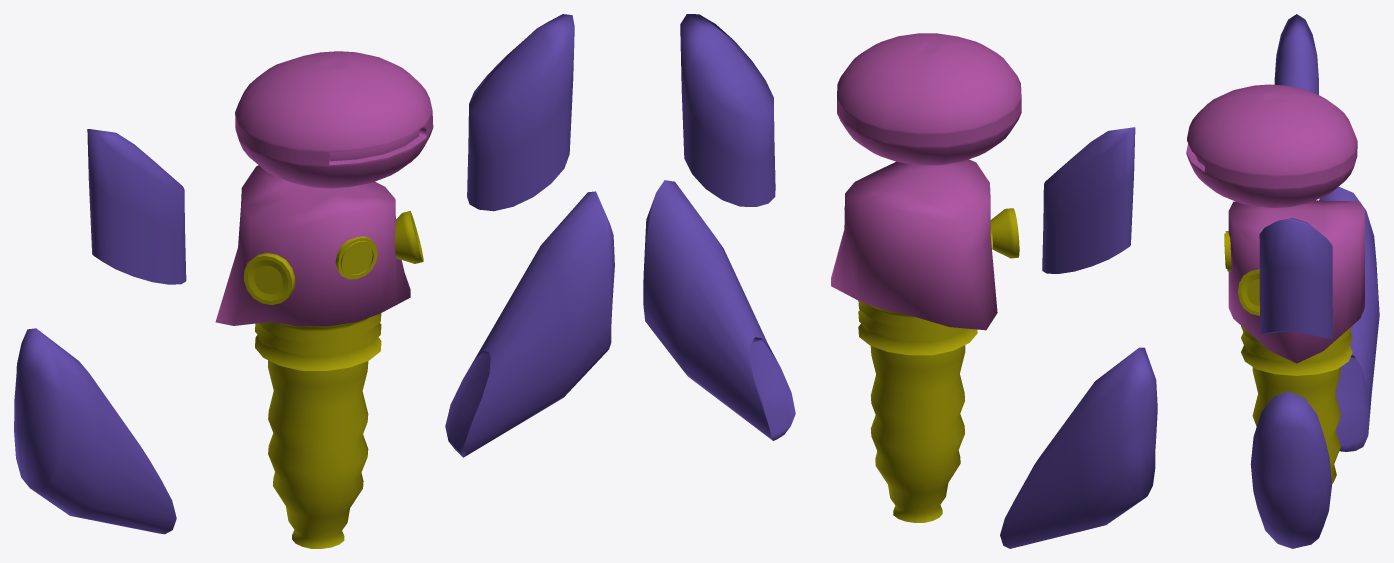
The model's file is GroundIdle.fbx.
3 renders of one model, left to right at view 1: azimuth 30°, elevation 25°; view 2: azimuth 150°, elevation 25°; view 3: azimuth 270°, elevation 25°, orthographic. The views are drawn at different scales.
Visible parts, largest first — view 1: RightArm2, Head, Legs, GroundBotChest, LeftArm2, RightArm1, LeftArm1, Speaker_2, Eyes, Speaker_1; view 2: GroundBotChest, RightArm2, Head, LeftArm2, Legs, RightArm1, LeftArm1, Speaker_2; view 3: Head, GroundBotChest, RightArm2, RightArm1, Legs, LeftArm2, LeftArm1, Speaker_1, Eyes.
Boxes of the visible parts, left/top/right/bottom form: RightArm2: left=445, top=191, right=614, bottom=457; Head: left=235, top=51, right=433, bottom=188; Legs: left=255, top=313, right=381, bottom=548; GroundBotChest: left=215, top=165, right=410, bottom=326; LeftArm2: left=14, top=328, right=176, bottom=534; RightArm1: left=467, top=14, right=574, bottom=211; LeftArm1: left=87, top=129, right=186, bottom=284; Speaker_2: left=244, top=253, right=295, bottom=304; Eyes: left=335, top=236, right=377, bottom=279; Speaker_1: left=395, top=211, right=423, bottom=263; GroundBotChest: left=831, top=159, right=997, bottom=330; RightArm2: left=643, top=180, right=795, bottom=440; Head: left=837, top=33, right=1021, bottom=165; LeftArm2: left=1000, top=347, right=1157, bottom=548; Legs: left=858, top=301, right=977, bottom=522; RightArm1: left=680, top=14, right=775, bottom=206; LeftArm1: left=1042, top=127, right=1135, bottom=273; Speaker_2: left=990, top=208, right=1019, bottom=258; Head: left=1186, top=84, right=1357, bottom=207; GroundBotChest: left=1228, top=200, right=1364, bottom=363; RightArm2: left=1250, top=391, right=1331, bottom=548; RightArm1: left=1259, top=218, right=1332, bottom=338; Legs: left=1241, top=326, right=1352, bottom=484; LeftArm2: left=1319, top=186, right=1379, bottom=451; LeftArm1: left=1274, top=14, right=1318, bottom=94; Speaker_1: left=1238, top=269, right=1259, bottom=315; Eyes: left=1224, top=231, right=1231, bottom=271.
Bounding box in the file's own units: 234 × 193 × 79.25.
